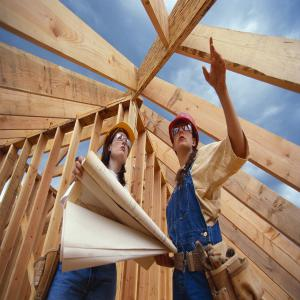red: (169, 112, 201, 160)
yellow: (102, 120, 136, 171)
